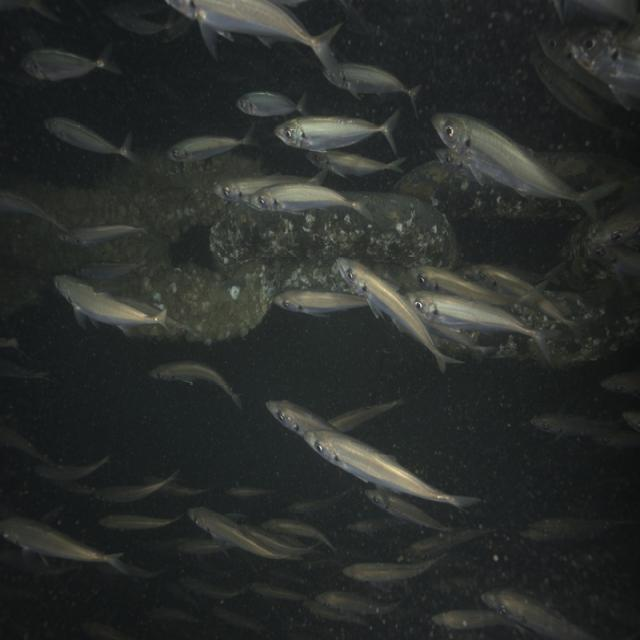ChainLink: (21, 152, 261, 244), (210, 193, 456, 268), (121, 260, 291, 341), (392, 161, 584, 221), (511, 289, 640, 367), (536, 154, 640, 203), (278, 260, 351, 293), (0, 267, 44, 319), (21, 226, 70, 271), (495, 335, 540, 358)
